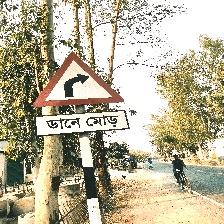Right-turn: (32, 52, 129, 136)
